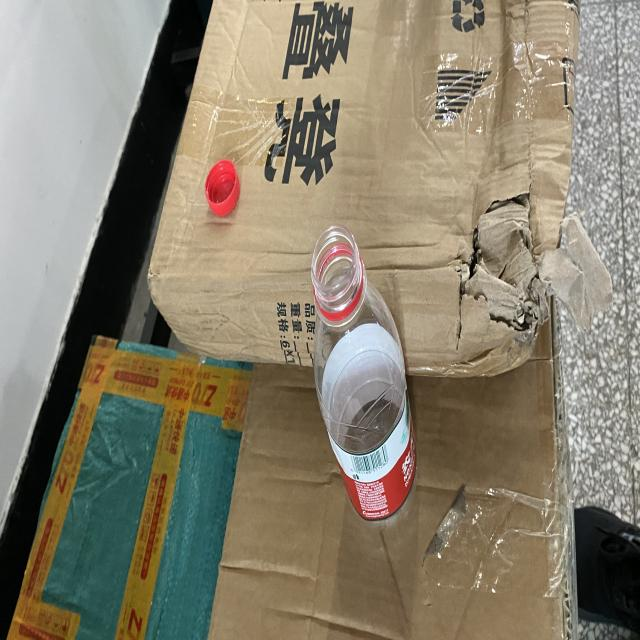Anorganik: (304, 236, 421, 535)
